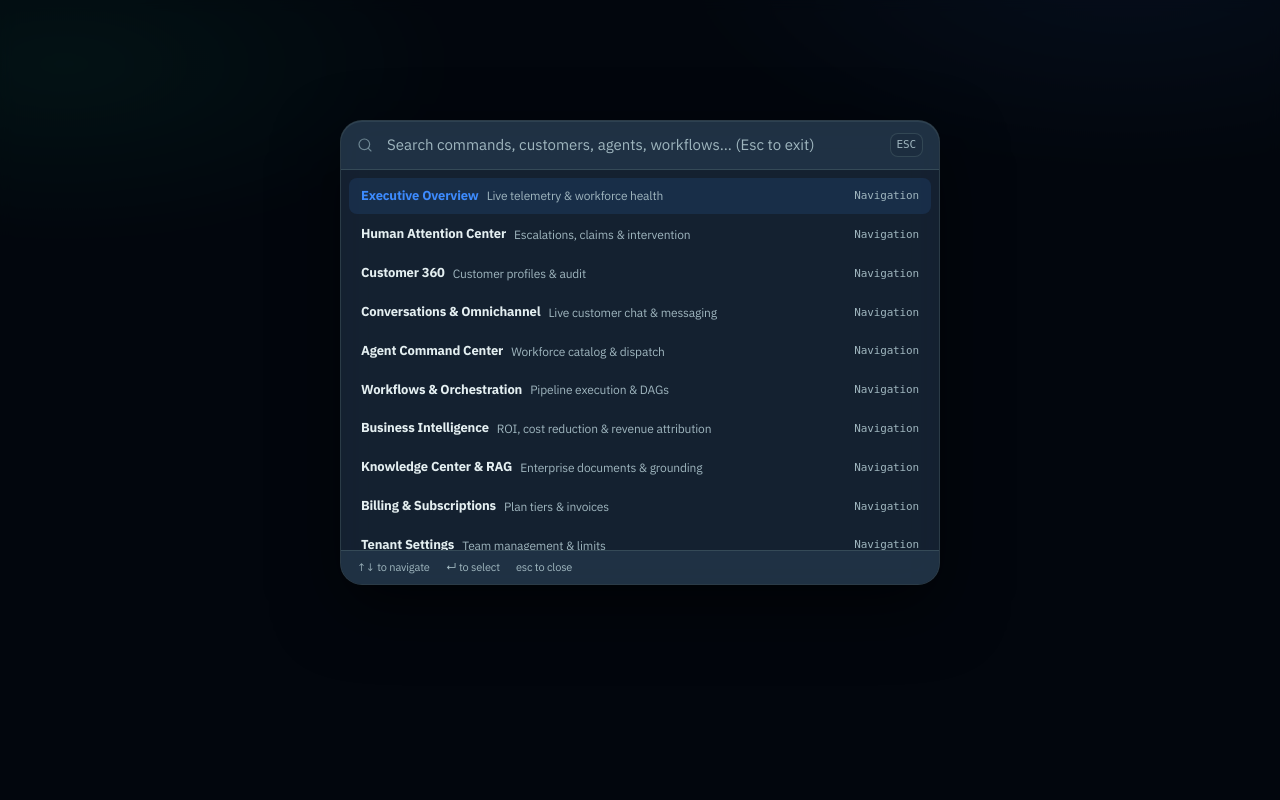
Test: CommandPalette Component › fetches dynamic entities on search input
Replace the text in the field with placeholder "Search commands" with "John" at [631, 145], box [385,134,878,155]
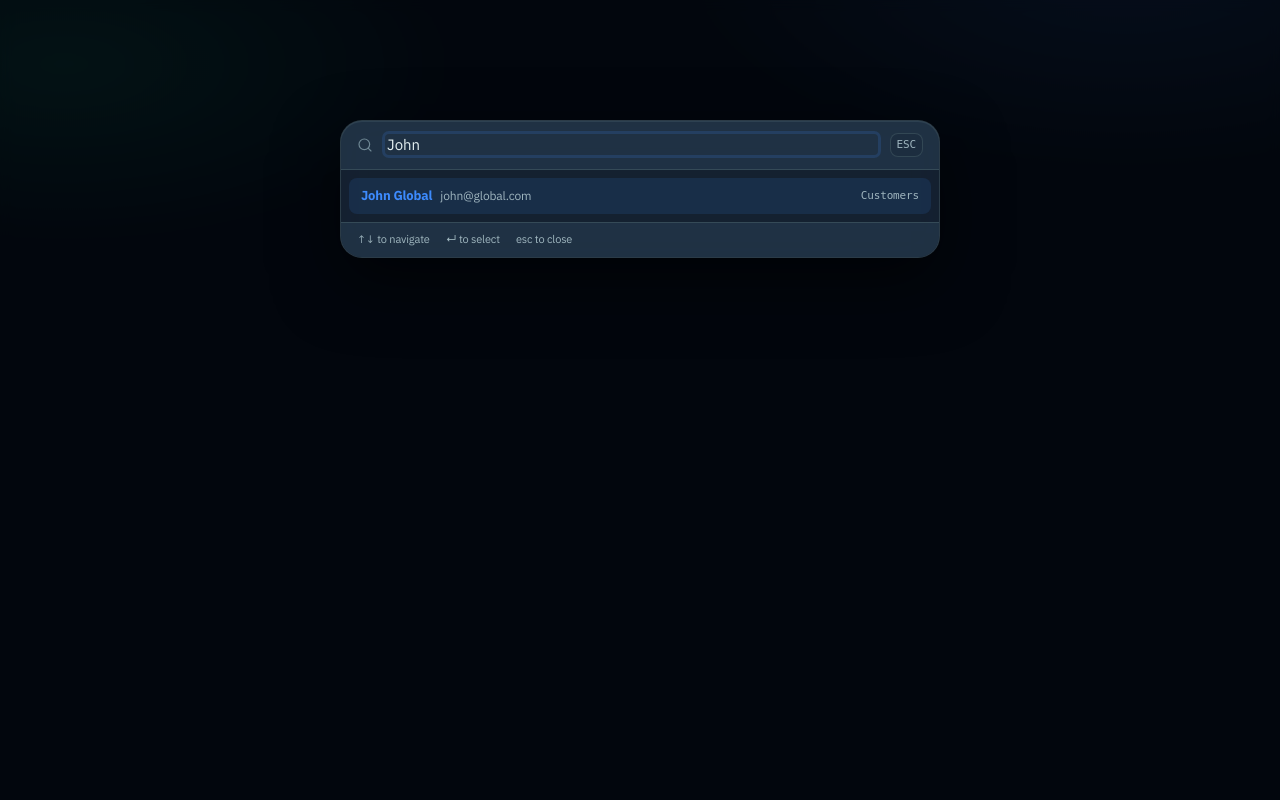
Expected: the text "John Global" is shown, [361,186,432,206]
Expected: the text "Customers" is shown, [861,187,919,205]
